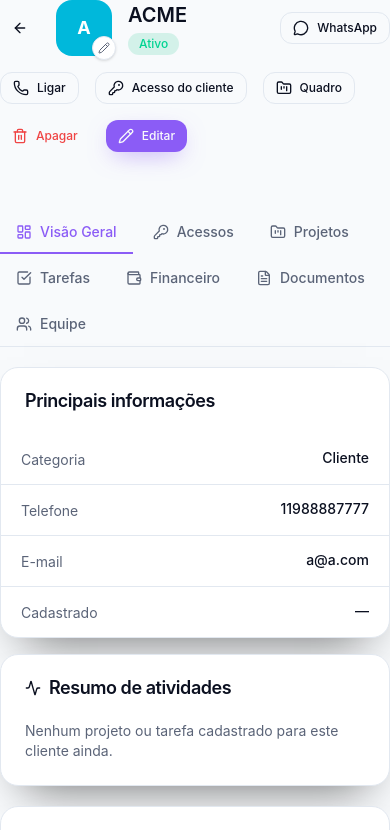
Test case: ClienteDetailPage › fluxo de apagar › deleteCliente lança → exibe erro no diálogo, não navega
The image size is (390, 830).
Expected: the heading "ACME" is shown, [128,3,187,27]
Click the button "Apagar".
click(45, 136)  # box [0,120,90,152]
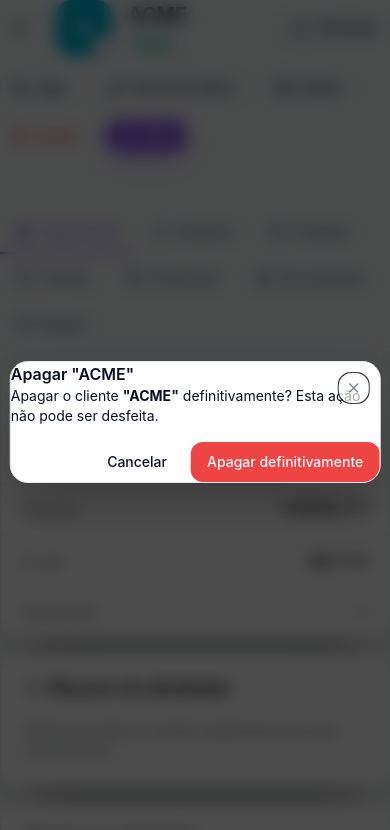
Now the heading "Apagar \"ACME\"" is shown, box [11,364,134,384]
Click the button "Apagar definitivamente".
click(285, 462)  # box [191,442,379,482]
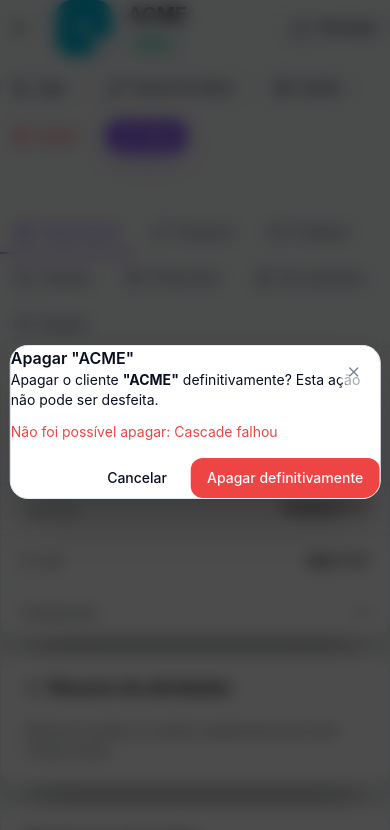
Now the message shows "Cascade falhou", box [11,423,278,440]
